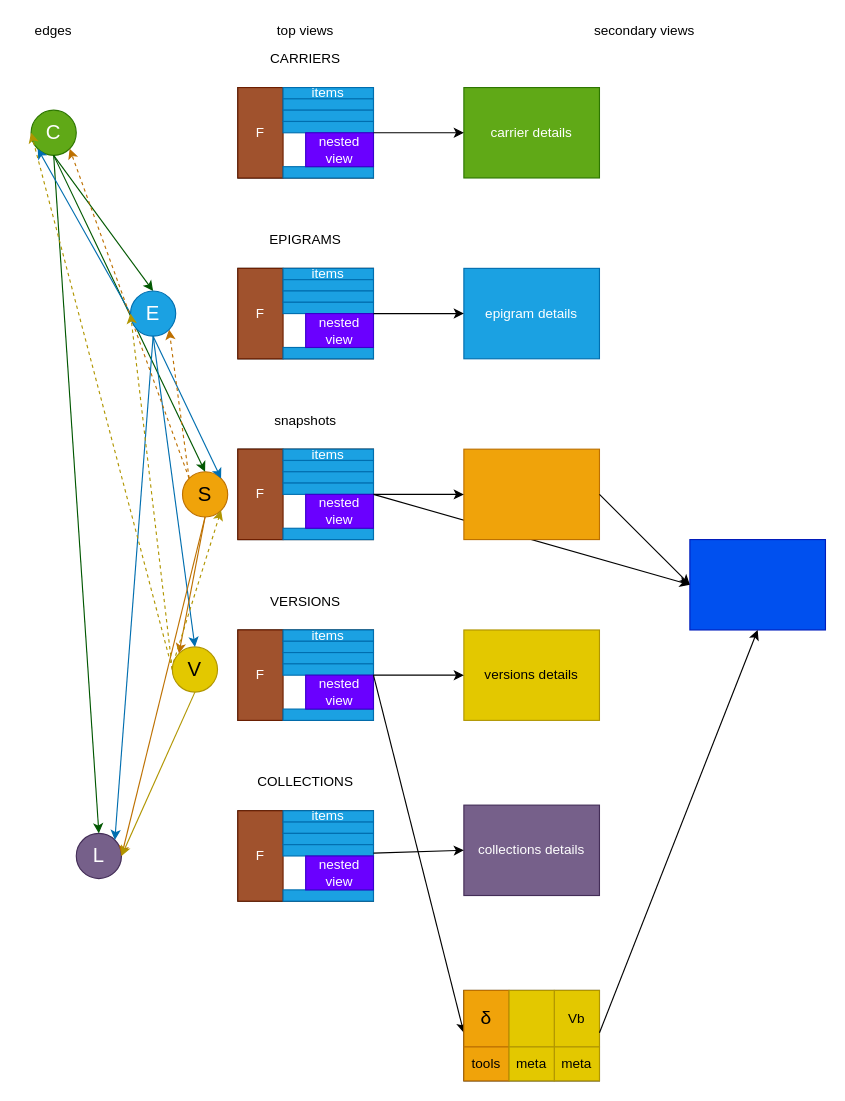
Image size: 845x1101. Some labels were removed from this diagram. Each missing label, with the centre of its shape:
"snapshot details" belongs at (x=531, y=494).
"snapshot player" belongs at (x=757, y=584).
"Va" belongs at (x=531, y=1018).
